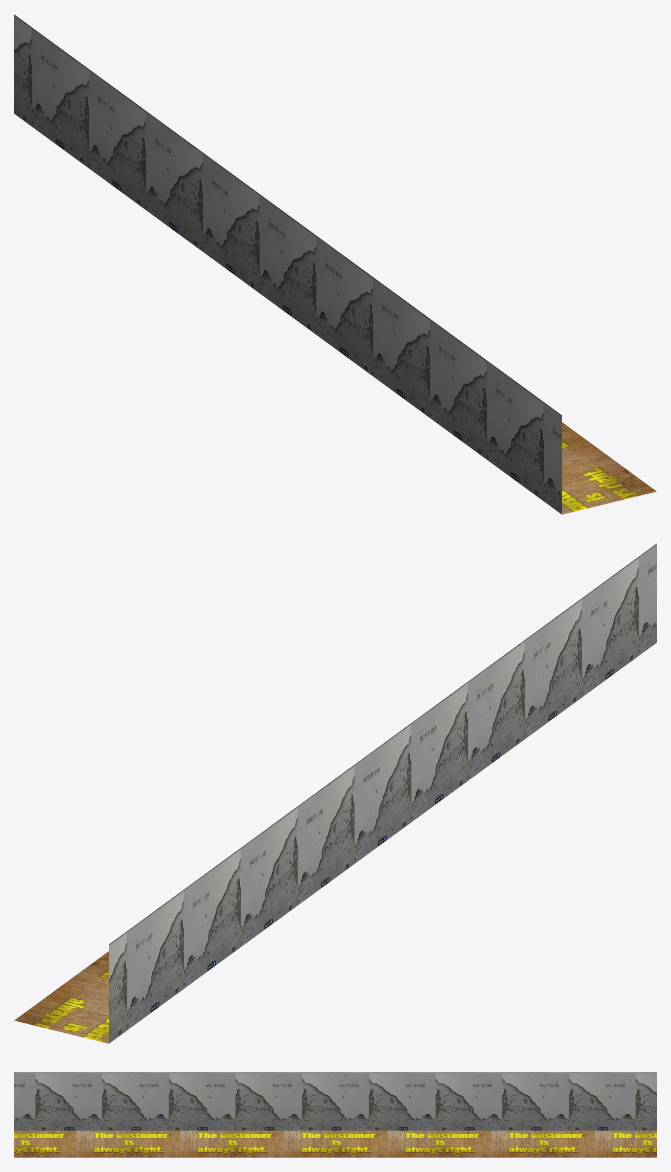
The model's file is Hallway.glb.
The picture shows the model from 3 angles, top to bottom: view 1: azimuth 30°, elevation 25°; view 2: azimuth 150°, elevation 25°; view 3: azimuth 270°, elevation 25°; orthographic projection. The views are drawn at different scales.
Visible parts, largest first — view 1: Wall, Floor; view 2: Wall, Floor; view 3: Wall, Floor.
Part boxes in pixels (x1,y1,x2,y2): Wall: (14, 14, 561, 514); Floor: (562, 422, 656, 514); Wall: (109, 543, 656, 1043); Floor: (14, 951, 108, 1043); Wall: (14, 1072, 656, 1130); Floor: (14, 1130, 656, 1157).
Size of the model in its own units: 10 by 10 by 100.
2 materials, 2 textured.
